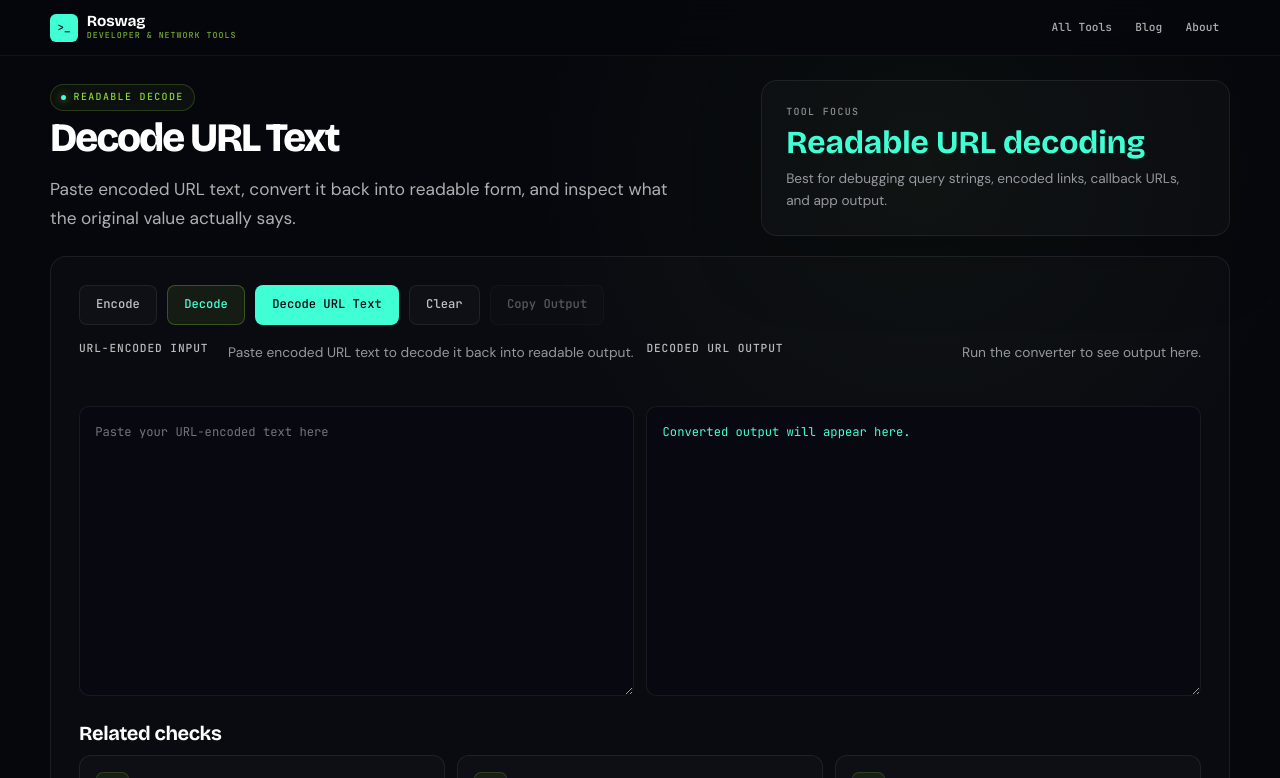
Test: UrlPage › shows a backend validation error for invalid URL decode input
In the text box named "URL-encoded input": (356, 551) [79, 406, 634, 696], type "%E0%A4%A"
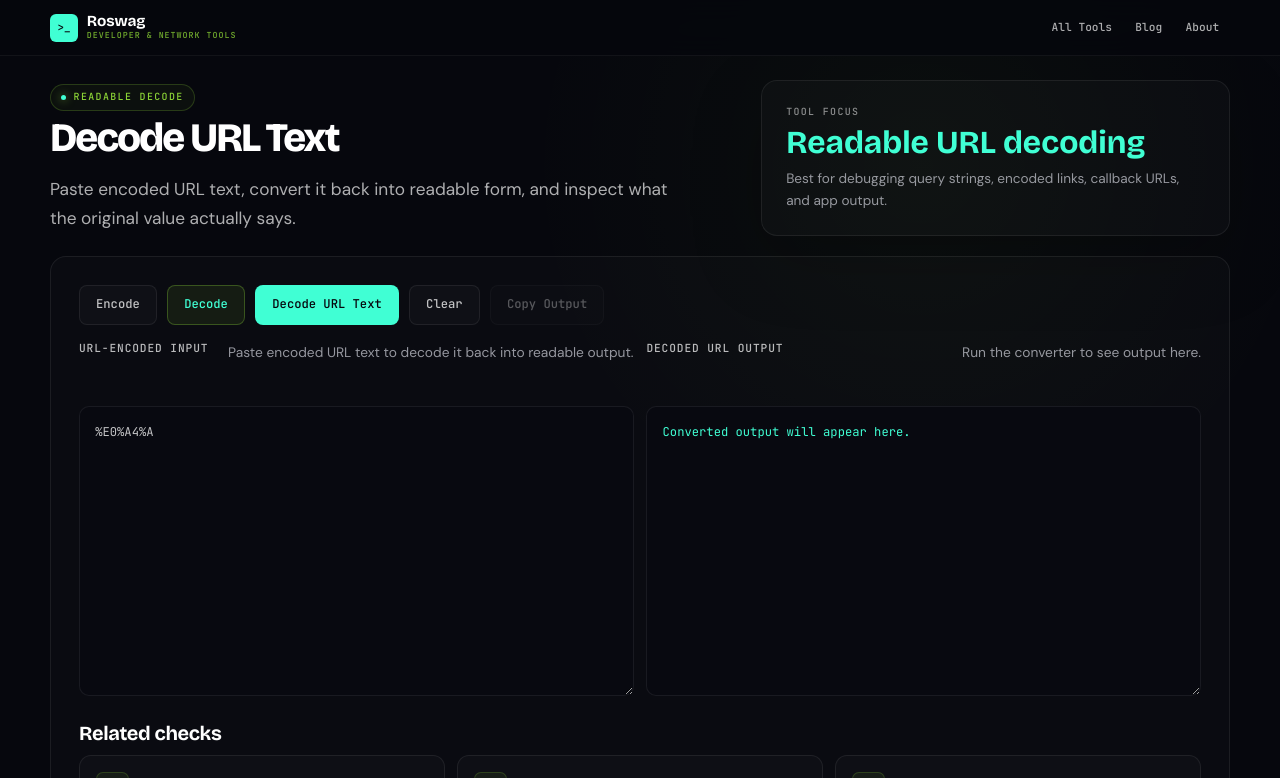
Click the button "Decode URL Text": (327, 304) [255, 284, 399, 324]
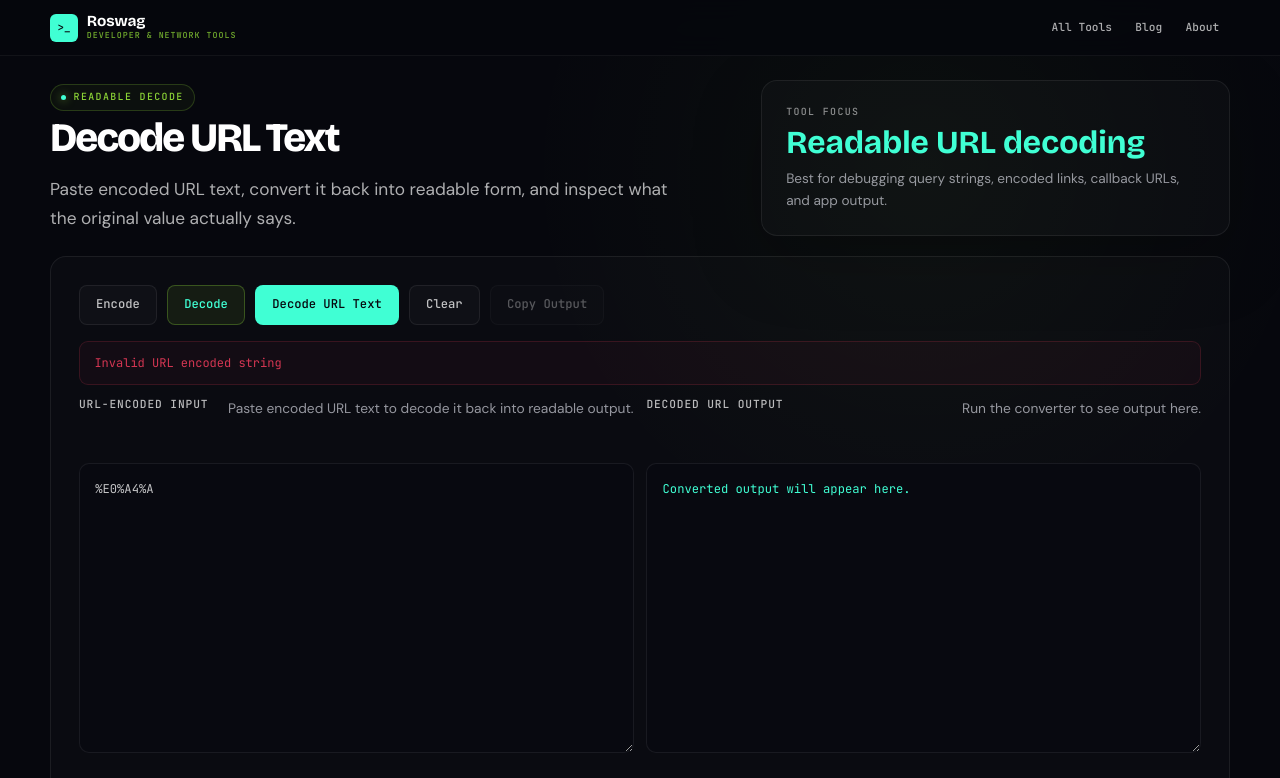
expect the text "Invalid URL encoded string" is shown: met, box [79, 340, 1201, 385]
